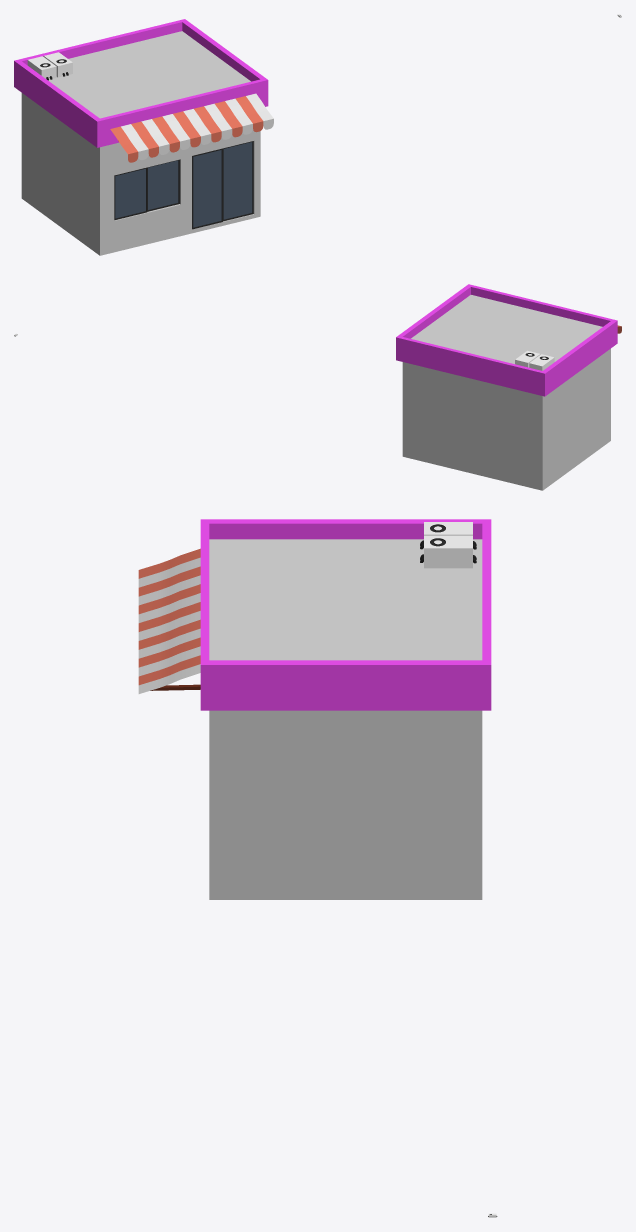
The model's file is envirnment2.fbx.
3 renders of one model, top to bottom at view 1: azimuth 30°, elevation 25°; view 2: azimuth 150°, elevation 25°; view 3: azimuth 270°, elevation 25°, orthographic. The views are drawn at different scales.
Parts seen in each view (by area): view 1: Cube.029; view 2: Cube.029; view 3: Cube.029.
Boxes of the visible parts, x1,y1,x2,y2 form: Cube.029: (14, 19, 273, 255); Cube.029: (396, 284, 621, 490); Cube.029: (138, 519, 491, 899).
Size of the model in its own units: 13131 by 2892 by 3848.
